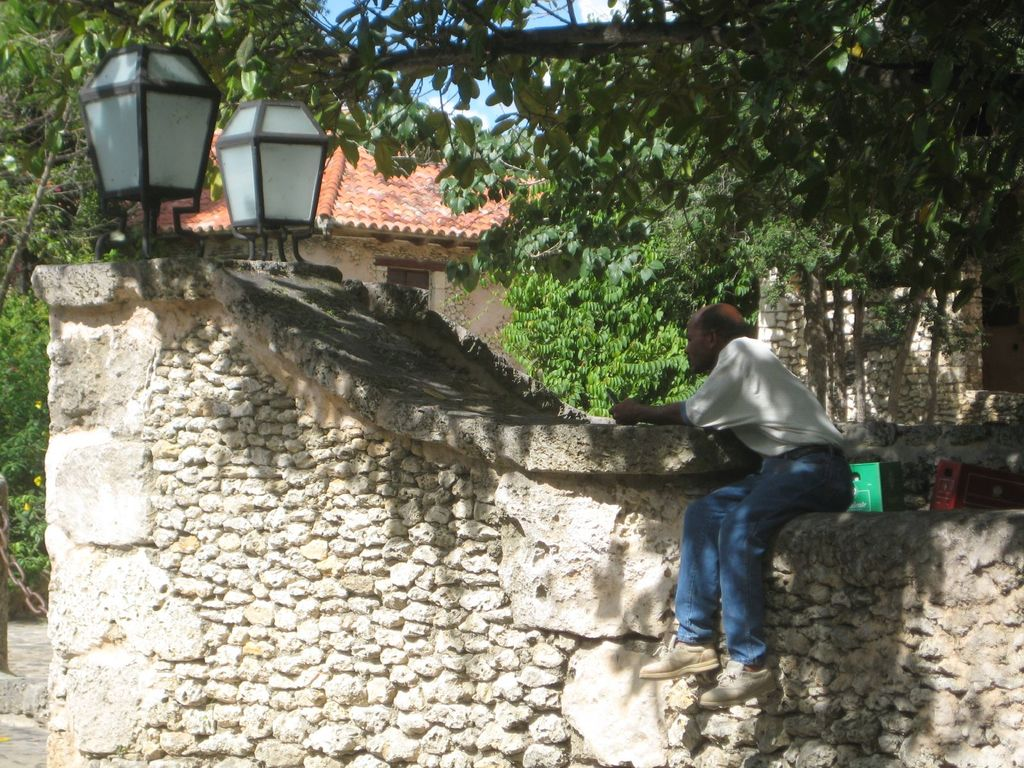Tree: (1, 0, 1023, 307)
